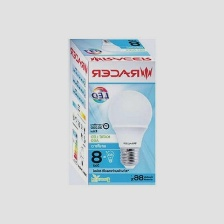carton: (65, 36, 158, 190)
